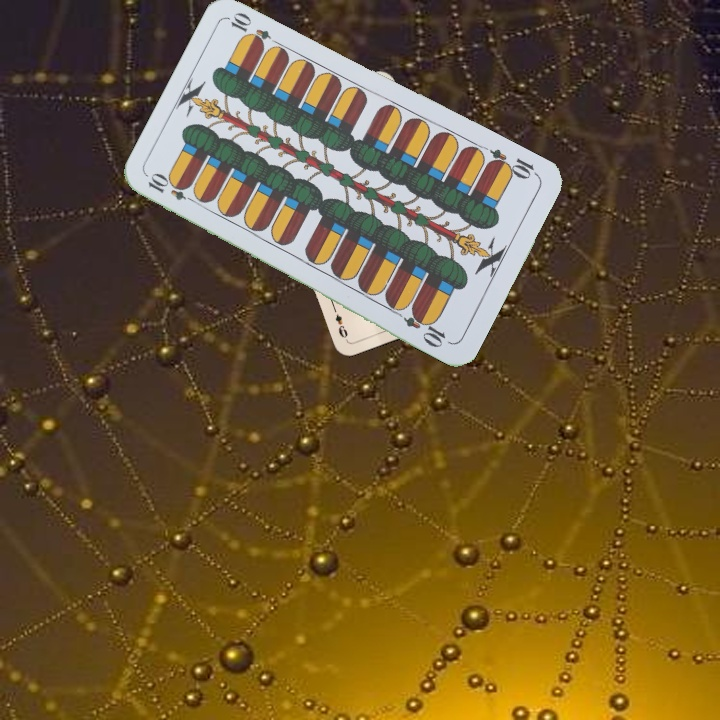E10: (483, 144, 541, 182), (144, 171, 201, 207)
